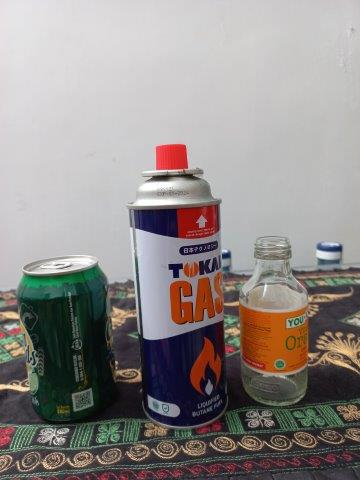botolkaca: (240, 238, 308, 408)
kaleng: (125, 145, 228, 428), (17, 254, 115, 423)
